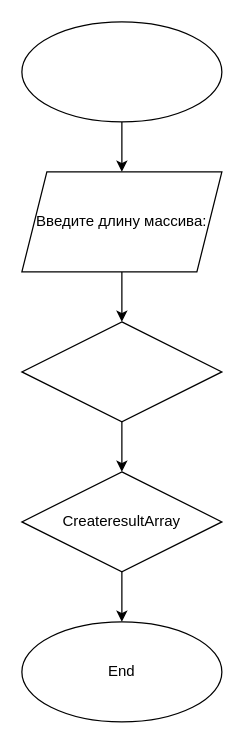
The diagram is 244 pixels wide and 744 high, and some of its shapes have lost their labels. The shapes that lost their labels are listed below. From the top down, each one's centre as x and y in pixels, then its label:
At (x=121, y=71): "Start".
At (x=121, y=371): "CreateArray".
